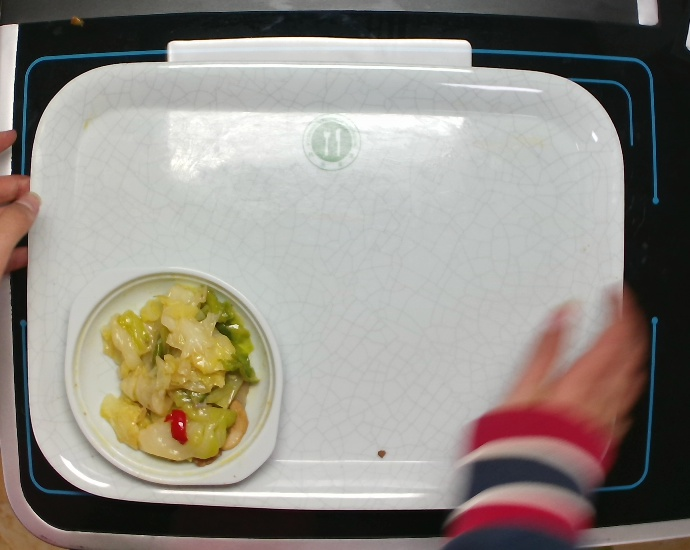JYsf-Shuang_Er_Pan: (61, 262, 286, 489)
